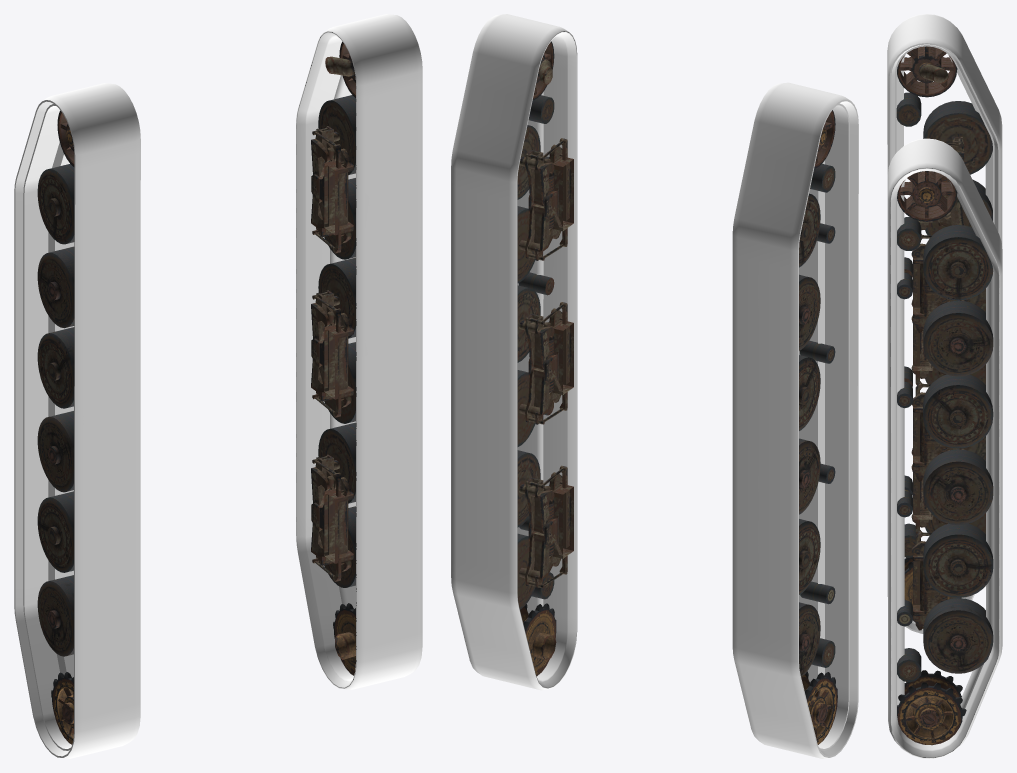
File: Chassis_02.glb
3 views of the same model, side by side, from view 1: azimuth 30°, elevation 25°; view 2: azimuth 150°, elevation 25°; view 3: azimuth 270°, elevation 25° (orthographic). The views are drawn at different scales.
Visible parts, largest first — view 1: set_0_group_0, set_1_group_0, set_3_group_0, set_2_group_0; view 2: set_0_group_0, set_1_group_0, set_3_group_0, set_2_group_0; view 3: set_3_group_0, set_1_group_0, set_2_group_0, set_0_group_0.
Part boxes in pixels (x1,y1,x2,y2): set_0_group_0: (14, 83, 140, 758); set_1_group_0: (296, 14, 422, 689); set_3_group_0: (311, 42, 355, 675); set_2_group_0: (37, 110, 74, 744); set_0_group_0: (732, 82, 858, 758); set_1_group_0: (451, 14, 577, 690); set_3_group_0: (517, 41, 573, 676); set_2_group_0: (799, 110, 837, 744); set_3_group_0: (897, 171, 993, 745); set_1_group_0: (887, 138, 1002, 758); set_2_group_0: (896, 46, 992, 606); set_0_group_0: (887, 14, 1002, 633).
Size of the model in its own units: 3.66 by 6.62 by 1.16.
Materials: 4 (2 with a texture image).
